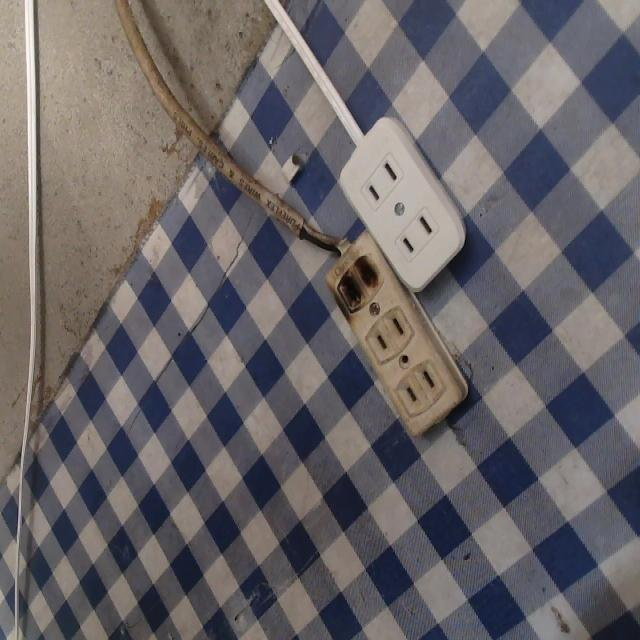-: (323, 244, 388, 316)
